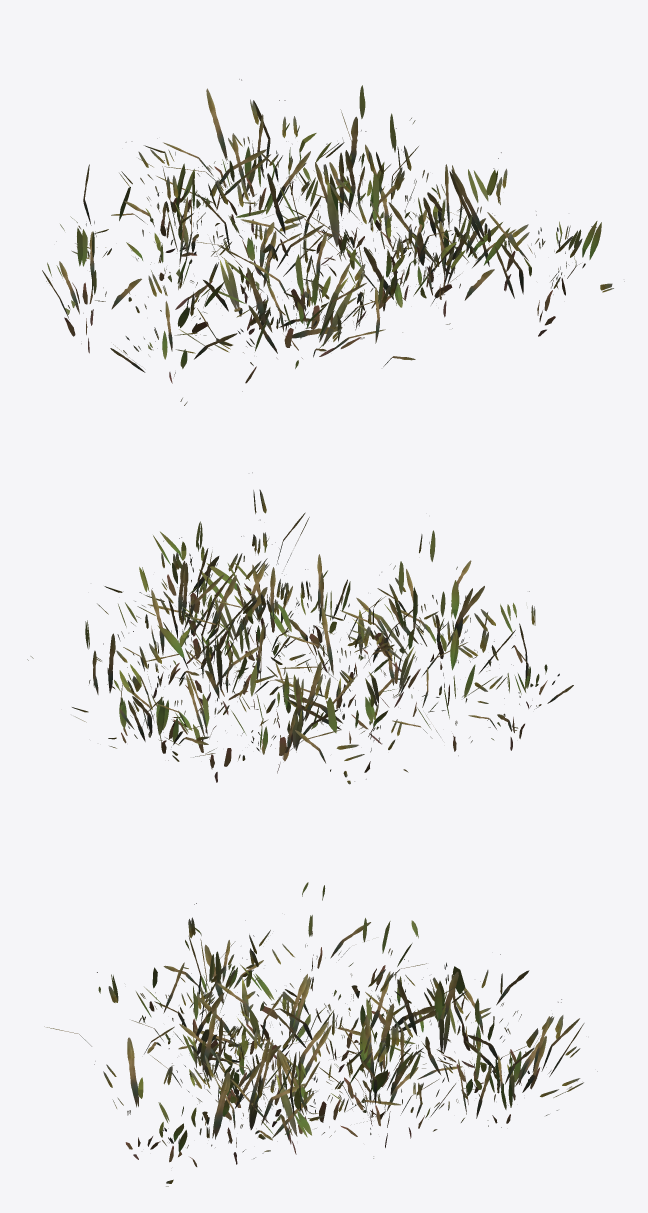
The model's file is grass_clumps.glb.
The picture shows the model from 3 angles, top to bottom: view 1: azimuth 30°, elevation 25°; view 2: azimuth 150°, elevation 25°; view 3: azimuth 270°, elevation 25°; orthographic projection. The views are drawn at different scales.
Visible parts, largest first — view 1: SM_rbdoo_VarA; view 2: SM_rbdoo_VarA; view 3: SM_rbdoo_VarA.
Boxes of the visible parts, x1=… form: SM_rbdoo_VarA: x1=42, y1=79, x2=624, y2=405; SM_rbdoo_VarA: x1=27, y1=472, x2=573, y2=784; SM_rbdoo_VarA: x1=44, y1=882, x2=597, y2=1186.
Size of what is drawn, in the model's own units: 0.699 by 0.2838 by 0.7636.
Materials: 1 (1 with a texture image).
